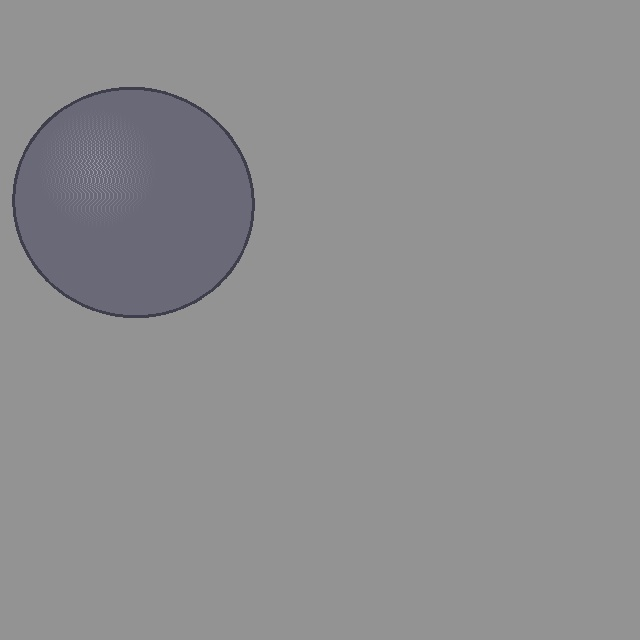lens: (14, 88, 252, 316)
